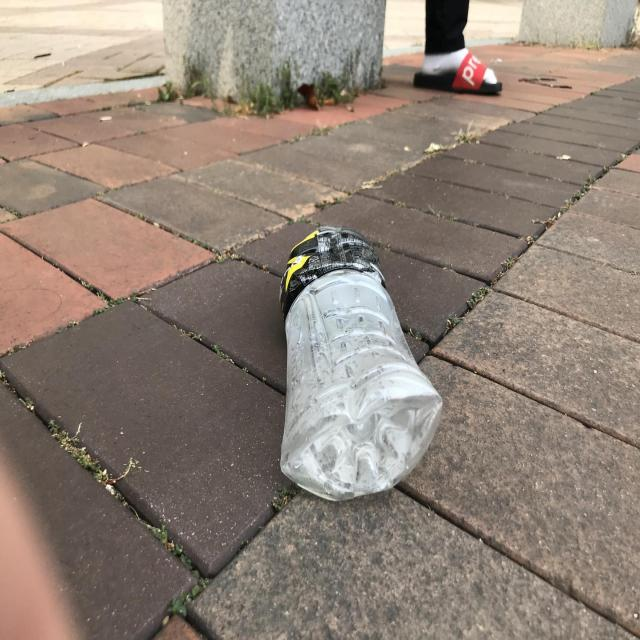plastic: (280, 226, 443, 501)
